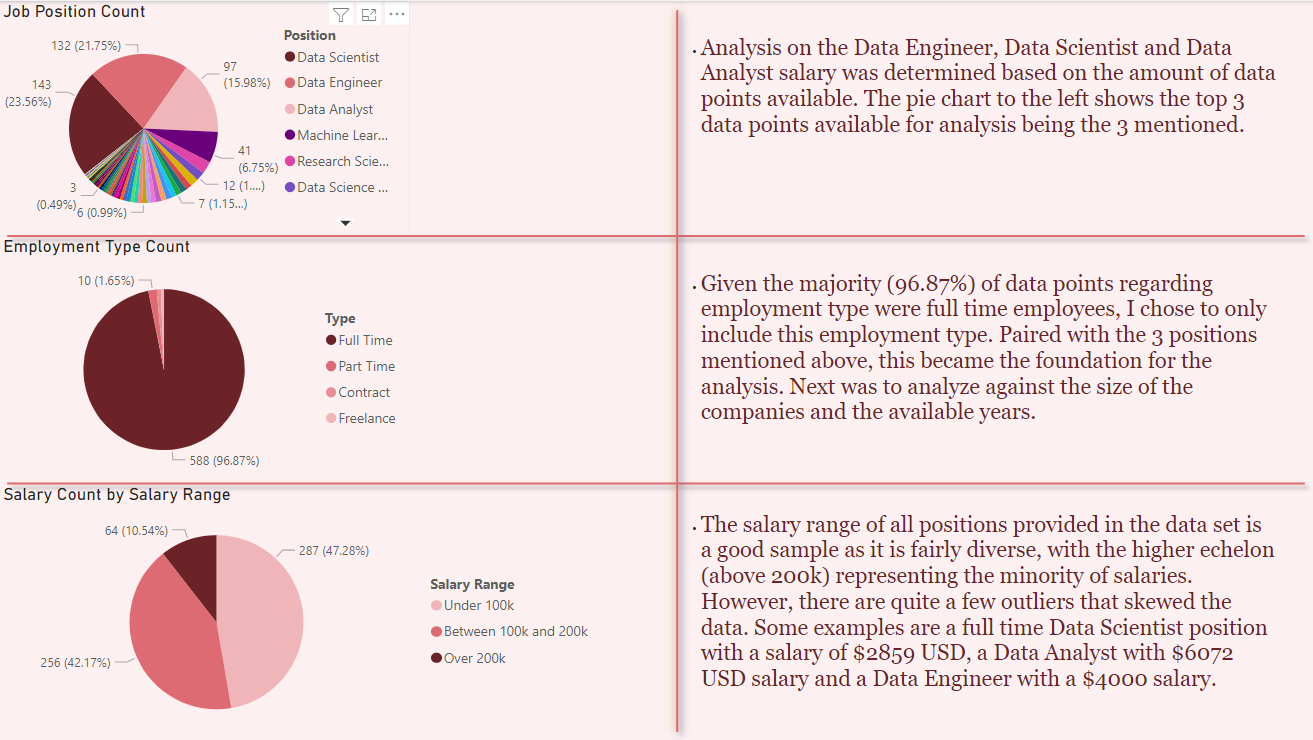

The dashboard page shown, as its layout file describes it:
{"tool":"powerbi","page":{"name":"Page 4","canvas":[1280,720],"ordinal":3},"visuals":[{"type":"pieChart","title":"Job Position Count","fields":{"Y":["Sum(Sheet1 (3).Count)"],"Category":["Sheet1 (3).job_title"]},"box":[0,0,400.7,228.6],"z":0},{"type":"pieChart","title":"Employment Type Count","fields":{"Y":["CountNonNull(Sheet1 (2).employment_type)"],"Category":["Page 4.em_type_full"]},"box":[0,228.6,400.7,241.2],"z":1000},{"type":"pieChart","fields":{"Category":["Sheet1.Column1"],"Y":["Sum(Sheet1.Salary Count)"]},"box":[0,469.8,587.5,250],"z":2000},{"type":"textbox","box":[660.4,491.2,588.4,228.6],"z":3000},{"type":"textbox","box":[660.4,27.2,588.4,175.1],"z":4000},{"type":"textbox","box":[660.4,256.8,588.4,184.8],"z":5000},{"type":"shape","box":[0,362.8,1280,213],"z":6000},{"type":"shape","box":[0,120.6,1280,215.9],"z":7000},{"type":"shape","box":[510.6,0,299.6,719.8],"z":8000}]}

Visuals, with their boxes in screenshot pixels (x1, y1, x2, y2), scaled from the page's 1280x720 canvas onto the 1313x740 screenshot:
"Job Position Count" pieChart: <box>0,0,411,235</box>
"Employment Type Count" pieChart: <box>0,235,411,483</box>
pieChart - Sheet1.Column1 x Sum(Sheet1.Salary Count): <box>0,483,603,739</box>
textbox: <box>677,505,1281,739</box>
textbox: <box>677,28,1281,208</box>
textbox: <box>677,264,1281,454</box>
shape: <box>0,373,1312,592</box>
shape: <box>0,124,1312,346</box>
shape: <box>524,0,831,739</box>
